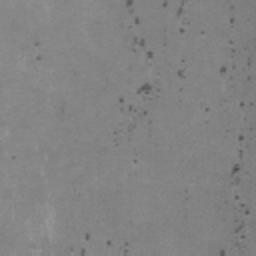Oxide scale of temperature system: (110, 0, 255, 148), (218, 192, 251, 256), (68, 230, 131, 256), (230, 133, 246, 175), (32, 38, 42, 61), (202, 105, 211, 114)
